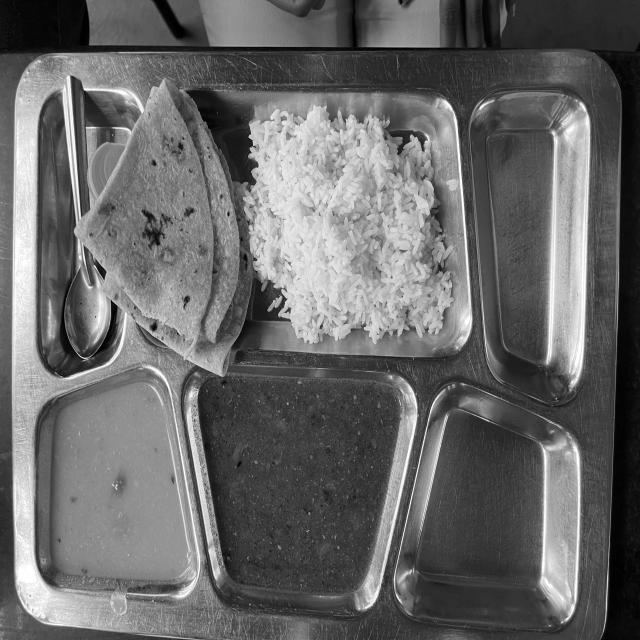70.12- Food Left: (34, 70, 597, 624)
